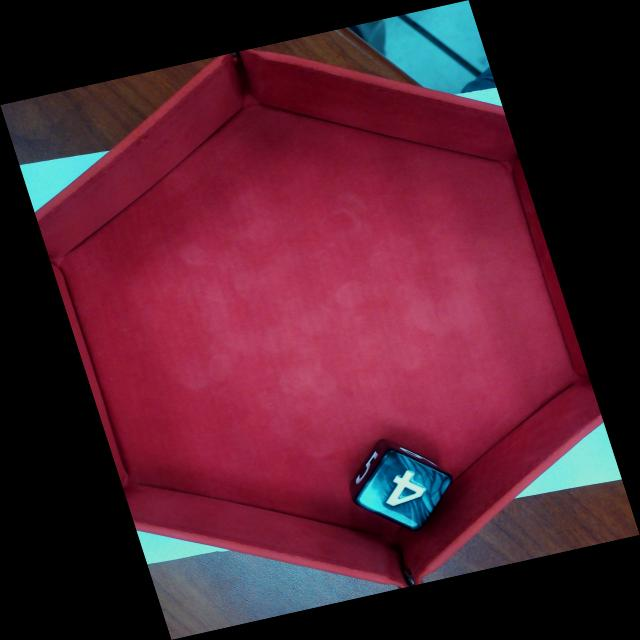dice: (352, 447, 455, 534)
